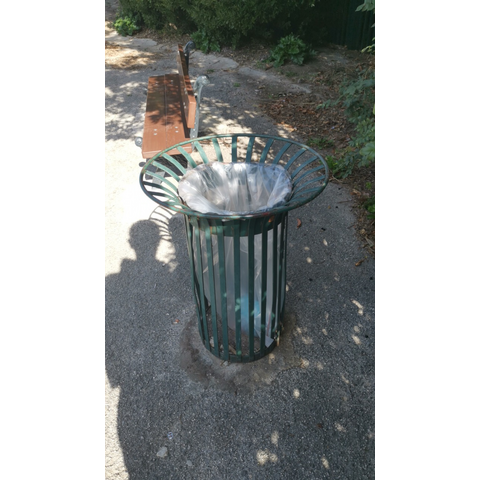poubelle: (132, 126, 331, 363)
